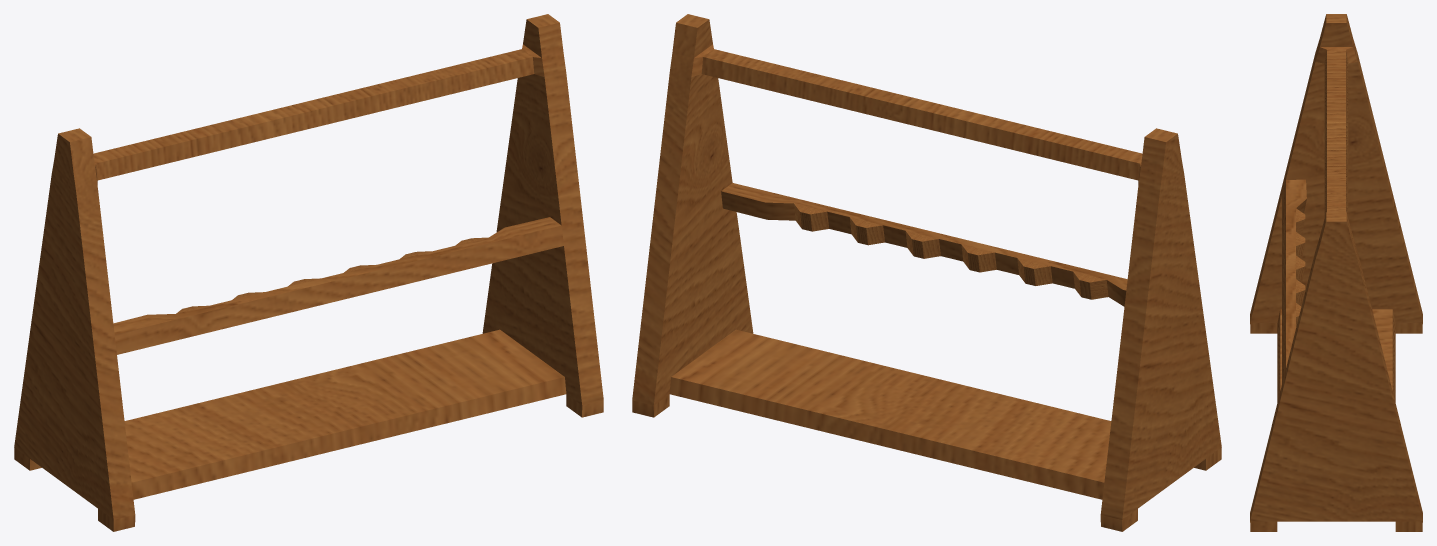
The model's file is fishingRodStand.fbx.
3 renders of one model, left to right at view 1: azimuth 30°, elevation 25°; view 2: azimuth 150°, elevation 25°; view 3: azimuth 270°, elevation 25°, orthographic. The views are drawn at different scales.
Parts seen in each view (by area): view 1: pCube2; view 2: pCube2; view 3: pCube2.
Boxes of the visible parts, left/top/right/bottom form: pCube2: left=14, top=14, right=603, bottom=531; pCube2: left=632, top=14, right=1221, bottom=531; pCube2: left=1250, top=14, right=1422, bottom=531.
Size of the model in its own units: 125 by 87.44 by 44.09.
